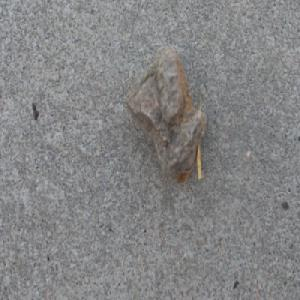Rock: (123, 43, 206, 186)
